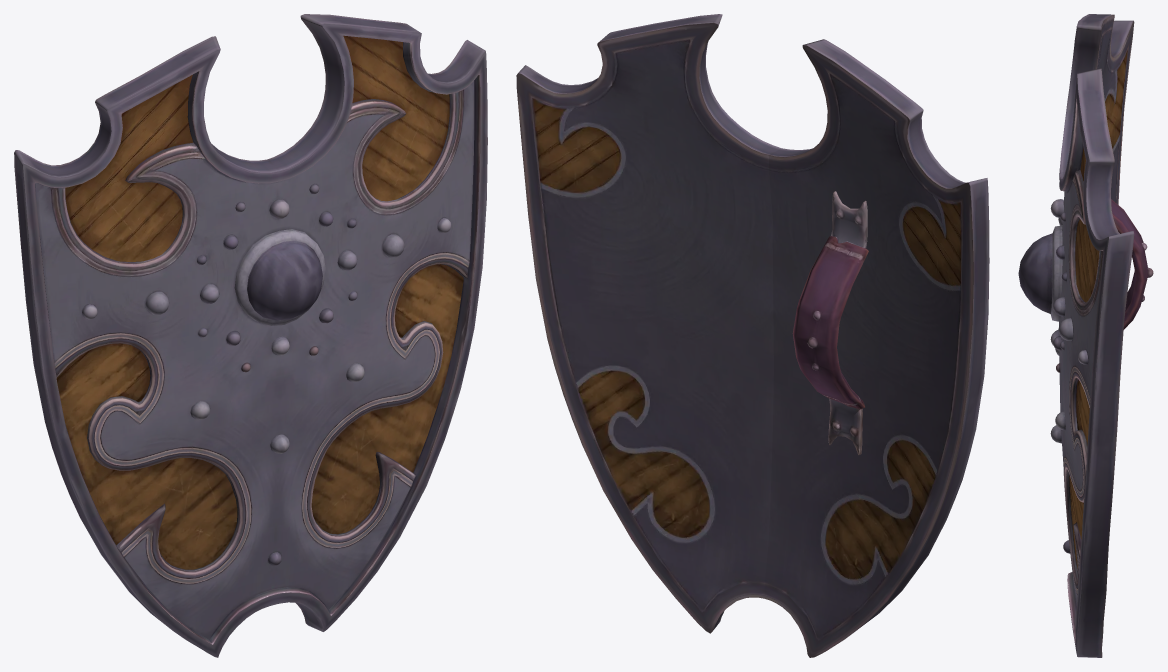
3 renders of one model, left to right at view 1: azimuth 30°, elevation 25°; view 2: azimuth 150°, elevation 25°; view 3: azimuth 270°, elevation 25°, orthographic. The views are drawn at different scales.
Parts seen in each view (by area): view 1: SM_Kite_Mithril_1H_01_LOD0; view 2: SM_Kite_Mithril_1H_01_LOD0; view 3: SM_Kite_Mithril_1H_01_LOD0.
Boxes of the visible parts, bbox=[...] form: SM_Kite_Mithril_1H_01_LOD0: bbox=[14, 14, 487, 657]; SM_Kite_Mithril_1H_01_LOD0: bbox=[516, 14, 989, 657]; SM_Kite_Mithril_1H_01_LOD0: bbox=[1018, 14, 1153, 657].
Bounding box in the file's own units: 0.7191 × 0.9082 × 0.1895.
Materials: 1 (1 with a texture image).
